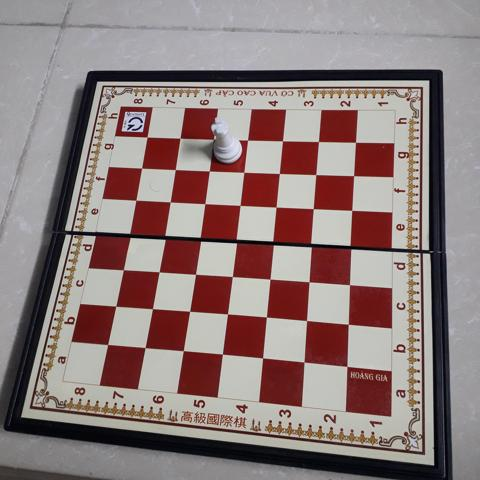xcorner: (138, 340, 152, 354), (216, 347, 230, 361), (298, 354, 312, 368), (108, 298, 122, 312), (145, 301, 159, 315), (301, 312, 315, 326), (342, 315, 356, 329), (115, 261, 129, 275), (188, 266, 202, 280), (226, 268, 240, 282), (304, 273, 318, 287), (344, 275, 358, 289), (122, 226, 136, 240), (157, 228, 171, 242), (193, 230, 207, 244), (306, 235, 320, 249), (346, 237, 360, 251), (163, 194, 177, 208), (198, 195, 212, 209), (234, 197, 248, 211), (271, 198, 285, 212), (347, 201, 361, 215), (349, 167, 363, 181), (141, 130, 155, 144), (208, 131, 222, 145), (242, 132, 256, 146), (313, 133, 327, 147), (350, 134, 364, 148), (101, 337, 114, 351), (183, 304, 196, 318), (221, 307, 235, 320), (151, 264, 165, 277), (264, 271, 278, 284), (230, 232, 244, 245), (268, 234, 282, 247), (129, 193, 143, 206), (309, 200, 323, 213), (135, 161, 149, 174), (169, 162, 183, 175), (203, 163, 217, 176), (238, 164, 252, 177), (274, 165, 288, 178), (311, 166, 325, 179), (174, 131, 188, 144), (277, 133, 291, 146), (177, 344, 190, 357), (257, 351, 270, 364), (341, 358, 354, 371), (261, 310, 274, 323)
